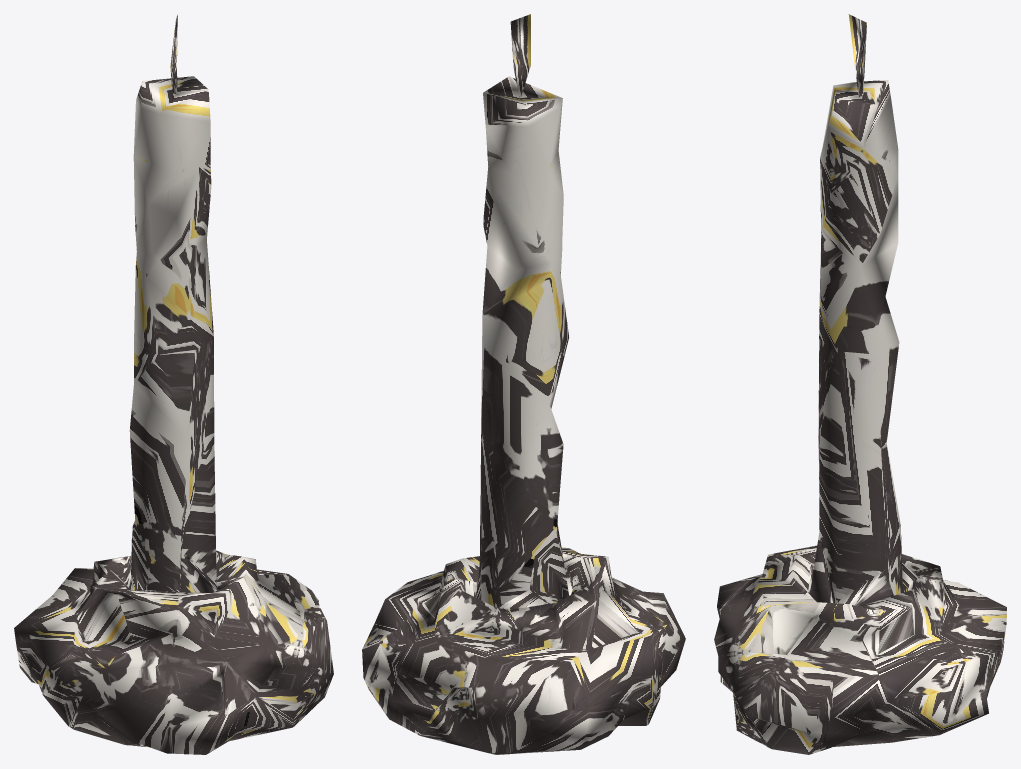
File: candle.glb
3 renders of one model, left to right at view 1: azimuth 30°, elevation 25°; view 2: azimuth 150°, elevation 25°; view 3: azimuth 270°, elevation 25°, orthographic.
Size of the model in its own units: 0.713 by 1.78 by 0.6832.
Materials: 1 (1 with a texture image).
